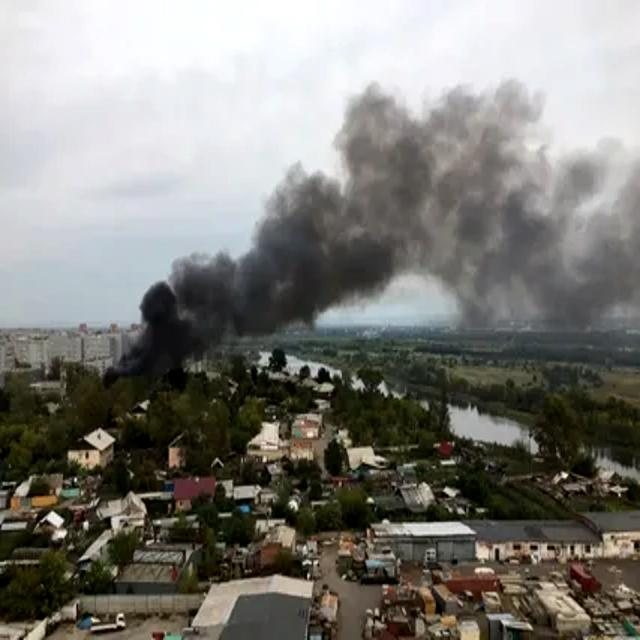no_helmet: (126, 164, 429, 370)
